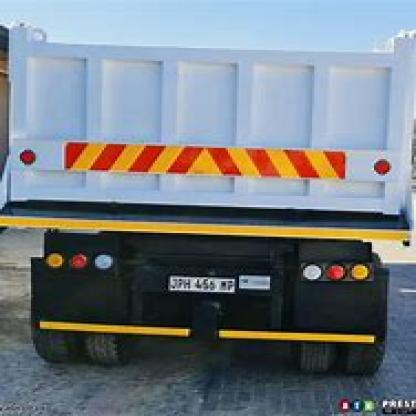dump_truck: (0, 13, 414, 377)
